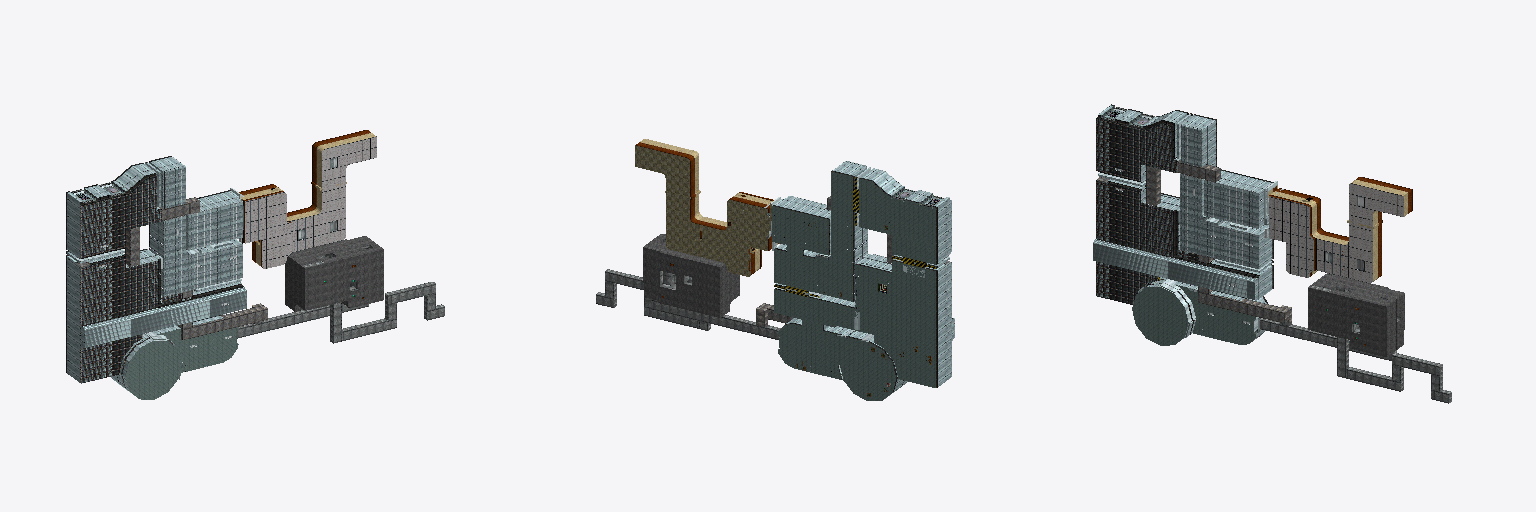
3 views of the same model, side by side, from view 1: azimuth 30°, elevation 25°; view 2: azimuth 150°, elevation 25°; view 3: azimuth 330°, elevation 25° (orthographic).
Visible parts, largest first — view 1: BSP_Object.model_0; view 2: BSP_Object.model_0; view 3: BSP_Object.model_0.
Part boxes in pixels (left/top/right/bottom): BSP_Object.model_0: left=66, top=130, right=444, bottom=399; BSP_Object.model_0: left=596, top=139, right=954, bottom=400; BSP_Object.model_0: left=1093, top=104, right=1451, bottom=403.
Size of the model in its own units: 2832 by 1668 by 296.
Materials: 70 (70 with a texture image).